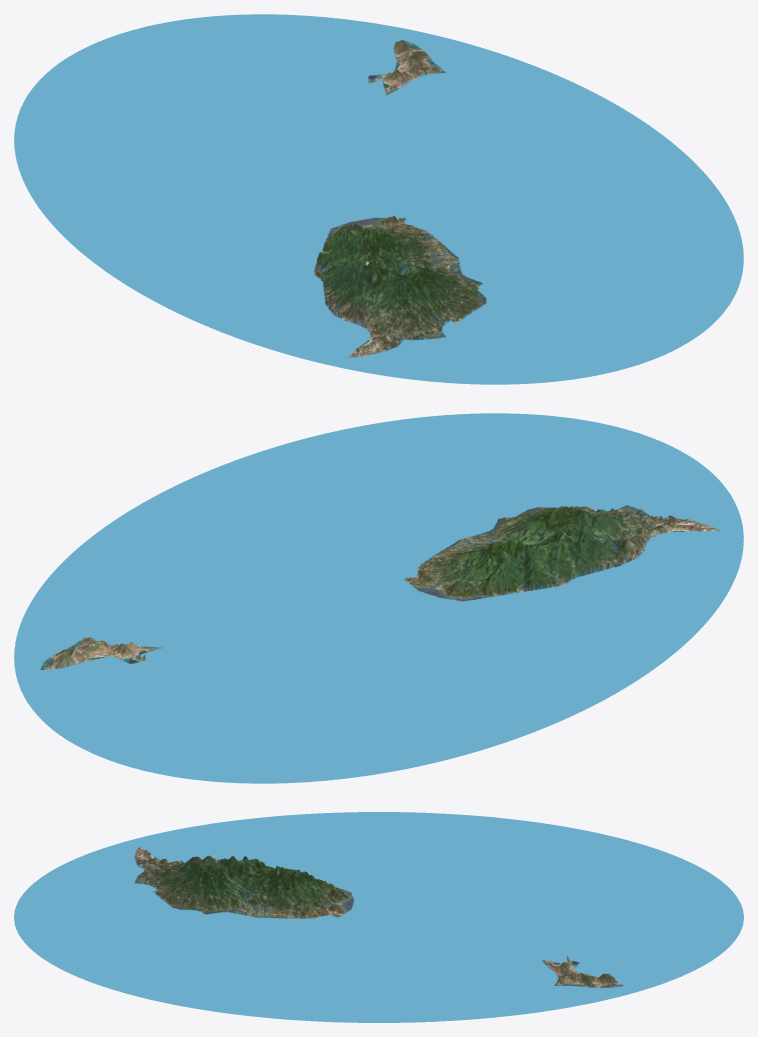
The model's file is GRD-previa-terrain.glb.
The picture shows the model from 3 angles, top to bottom: view 1: azimuth 30°, elevation 25°; view 2: azimuth 150°, elevation 25°; view 3: azimuth 270°, elevation 25°; orthographic projection. The views are drawn at different scales.
Parts seen in each view (by area): view 1: Granada; view 2: Granada; view 3: Granada.
Boxes of the visible parts, <box> form: Granada: <box>14,14,743,384</box>; Granada: <box>14,413,743,783</box>; Granada: <box>14,812,743,1022</box>.
Size of the model in its own units: 1.79 by 0.0952 by 2.62.
1 material, 1 textured.
